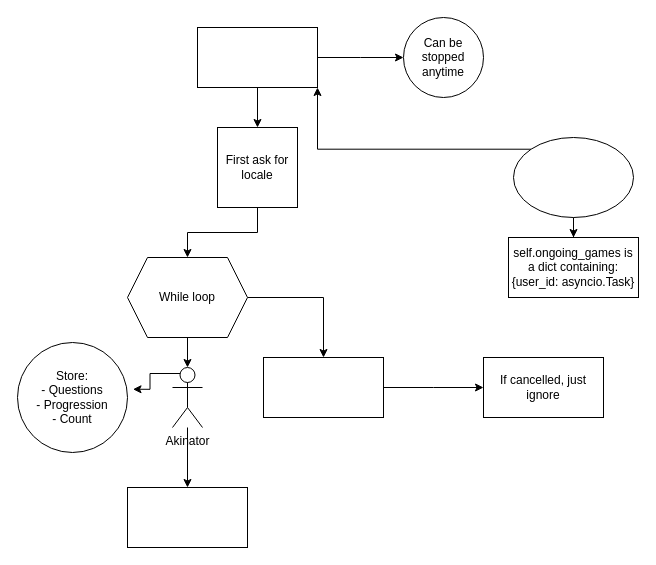
The diagram is 656 pixels wide and 565 high, and some of its shapes have lost their labels. Here are the shapes that lost their labels. From the top down, the centre of each, then its label:
At (257,57): "User start a game".
At (573,177): "Cog instance".
At (323,387): "Ask & wait for questions Is a asyncio task Can be cancelled".
At (187,517): "Can allow win".
